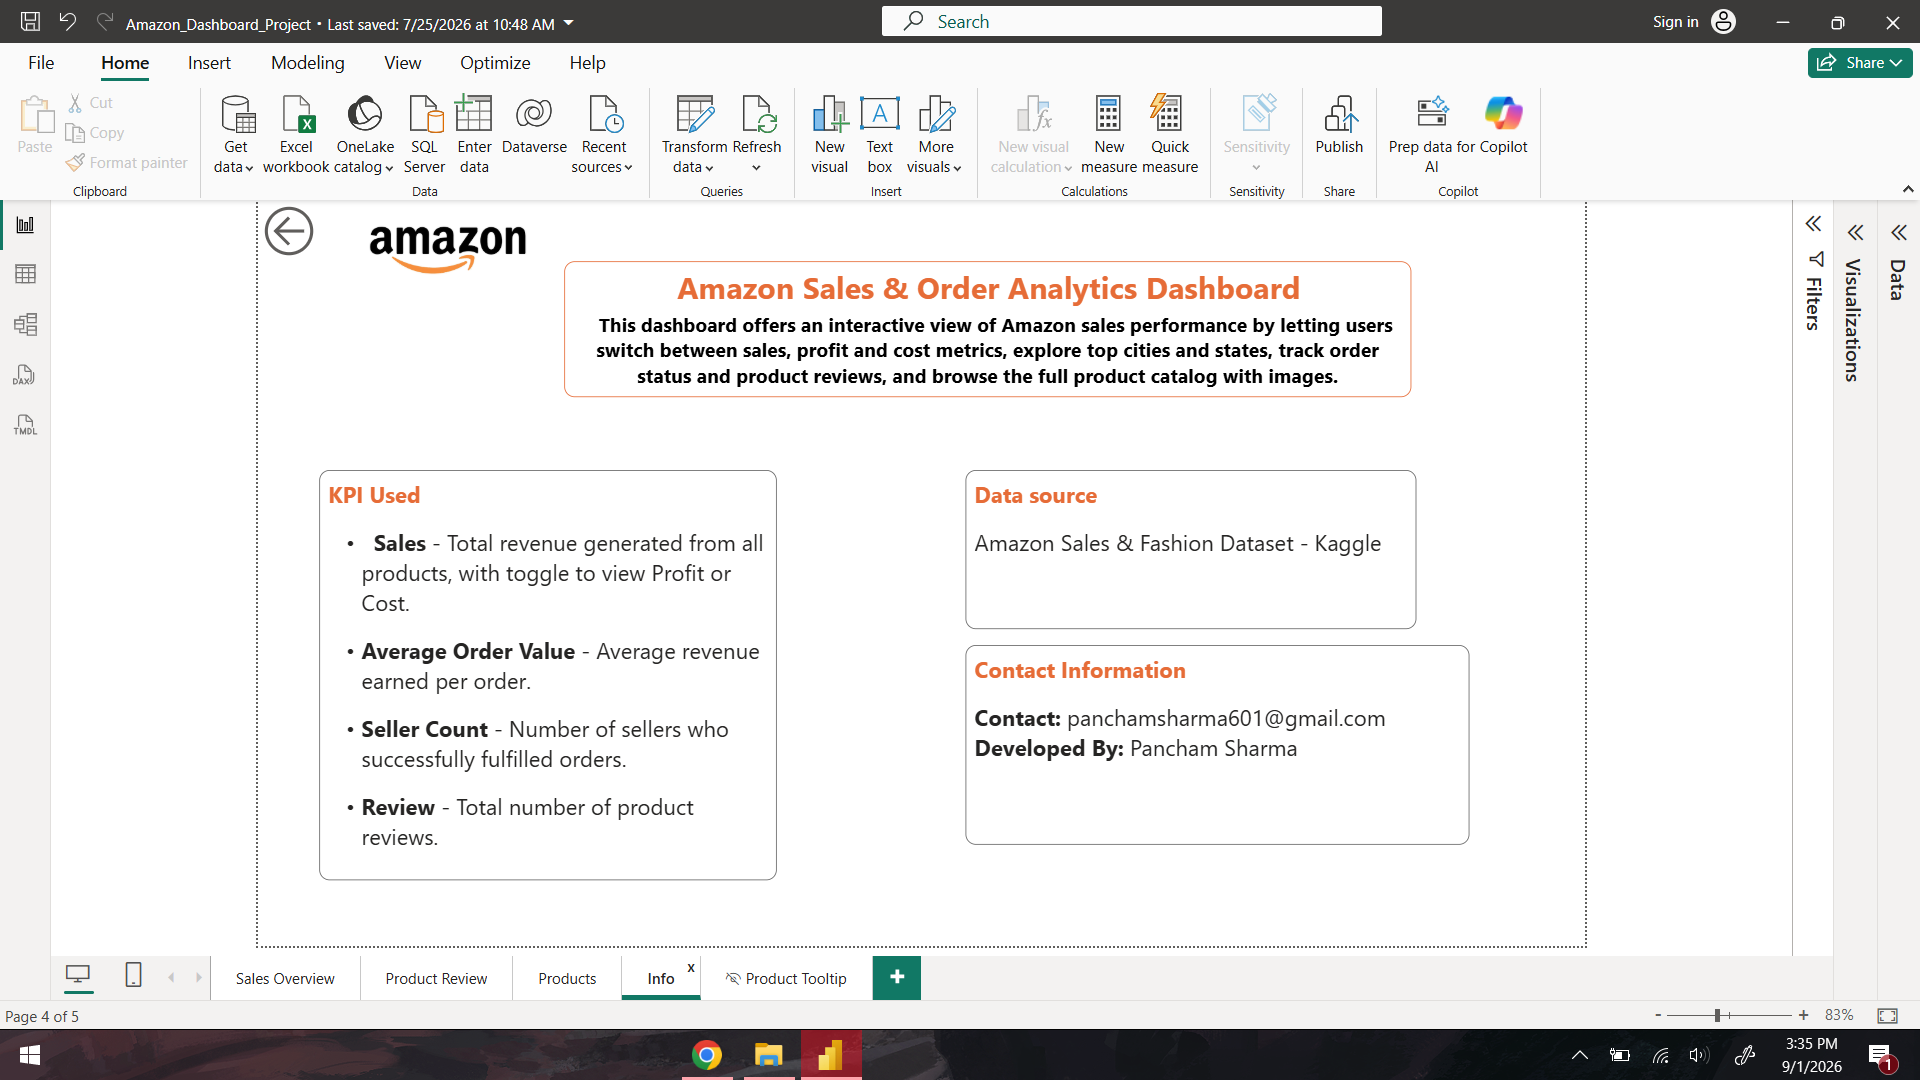

This screenshot's page, from the dashboard's own definition file:
{"tool":"powerbi","page":{"name":"Info","canvas":[1280,720],"ordinal":3},"visuals":[{"type":"actionButton","box":[0,0,68,59.9],"z":0},{"type":"image","box":[68.4,0,228.5,87.3],"z":1},{"type":"textbox","title":"Amazon Sales & Order Analytics Dashboard","box":[295.6,59.1,818,131.5],"z":2},{"type":"textbox","box":[59.1,260.6,441.6,395.7],"z":3},{"type":"textbox","box":[682.8,260.6,435.5,153.2],"z":4},{"type":"textbox","box":[682.8,429.5,486.2,193],"z":5}]}

Visuals, with their boxes on the page's 1280x720 design canvas (x1, y1, x2, y2). These are canvas units, not pixel positions in the 1920x1080 screenshot, which may show the page scaled, cropped or inside an application window:
actionButton: crop(0, 0, 68, 60)
image: crop(68, 0, 297, 87)
"Amazon Sales & Order Analytics Dashboard" textbox: crop(296, 59, 1114, 191)
textbox: crop(59, 261, 501, 656)
textbox: crop(683, 261, 1118, 414)
textbox: crop(683, 430, 1169, 622)
